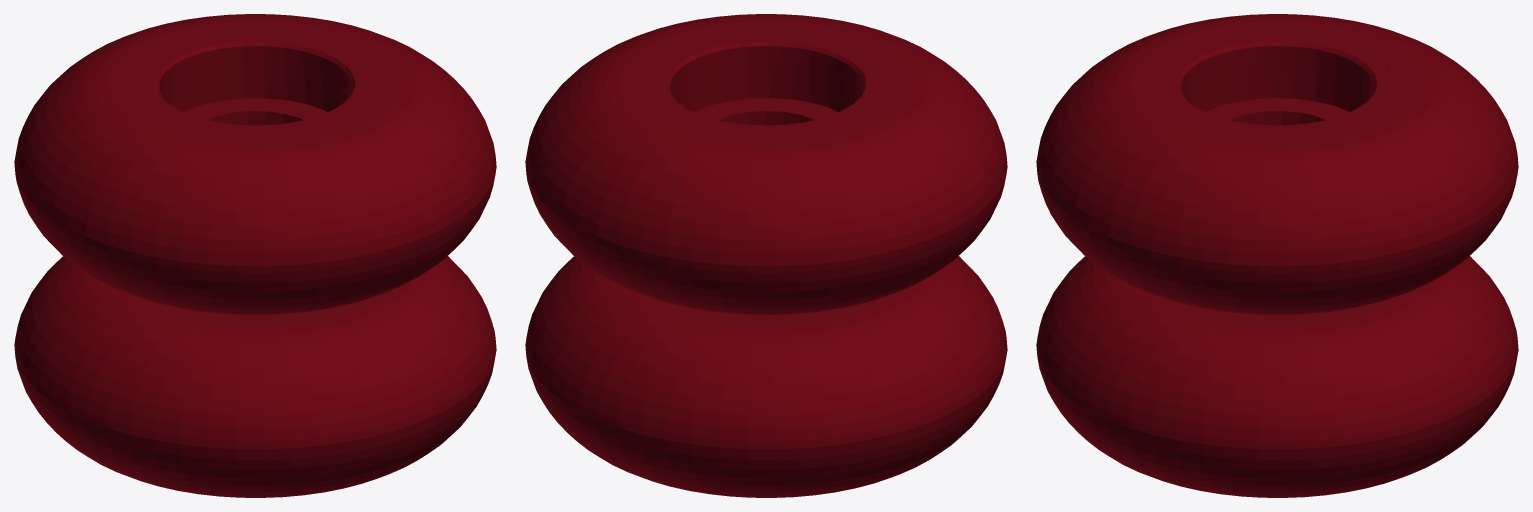
File: agv_universal_wheel.dae
The picture shows the model from 3 angles, left to right: view 1: azimuth 30°, elevation 25°; view 2: azimuth 150°, elevation 25°; view 3: azimuth 270°, elevation 25°; orthographic projection.
Parts seen in each view (by area): view 1: 1-1_Link; view 2: 1-1_Link; view 3: 1-1_Link.
Part boxes in pixels (x1,y1,x2,y2): 1-1_Link: (14,14,496,497); 1-1_Link: (525,14,1007,497); 1-1_Link: (1036,14,1518,497).
Bounding box in the file's own units: 0.065 × 0.065 × 0.0514.
